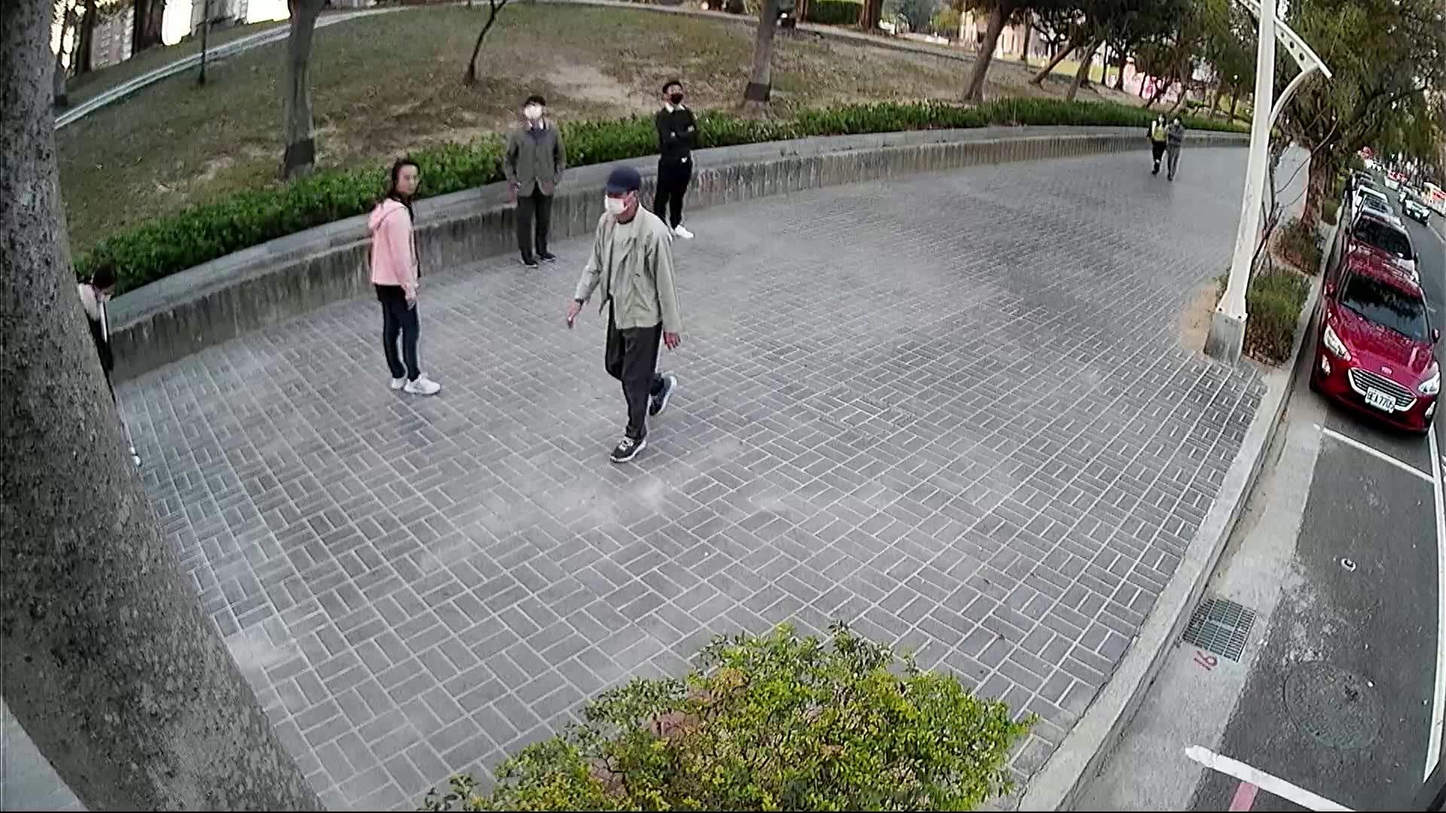person: (558, 157, 686, 468), (356, 151, 446, 400), (67, 252, 142, 471), (499, 88, 567, 269), (648, 73, 701, 242), (1144, 108, 1170, 175), (1161, 111, 1185, 181)
